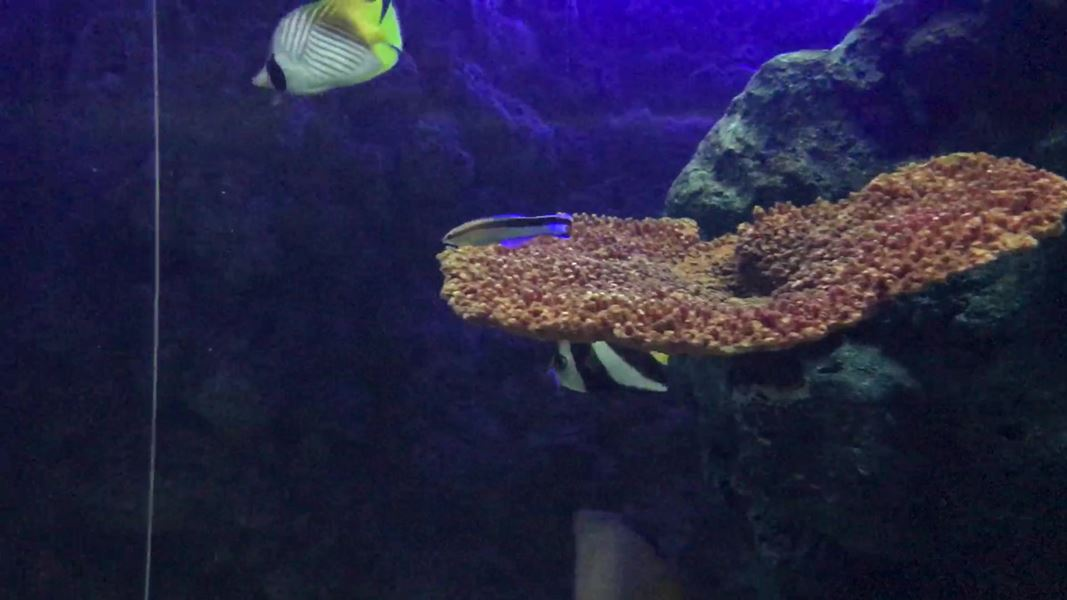Bluesteak cleaner wrasse: (434, 204, 581, 262)
